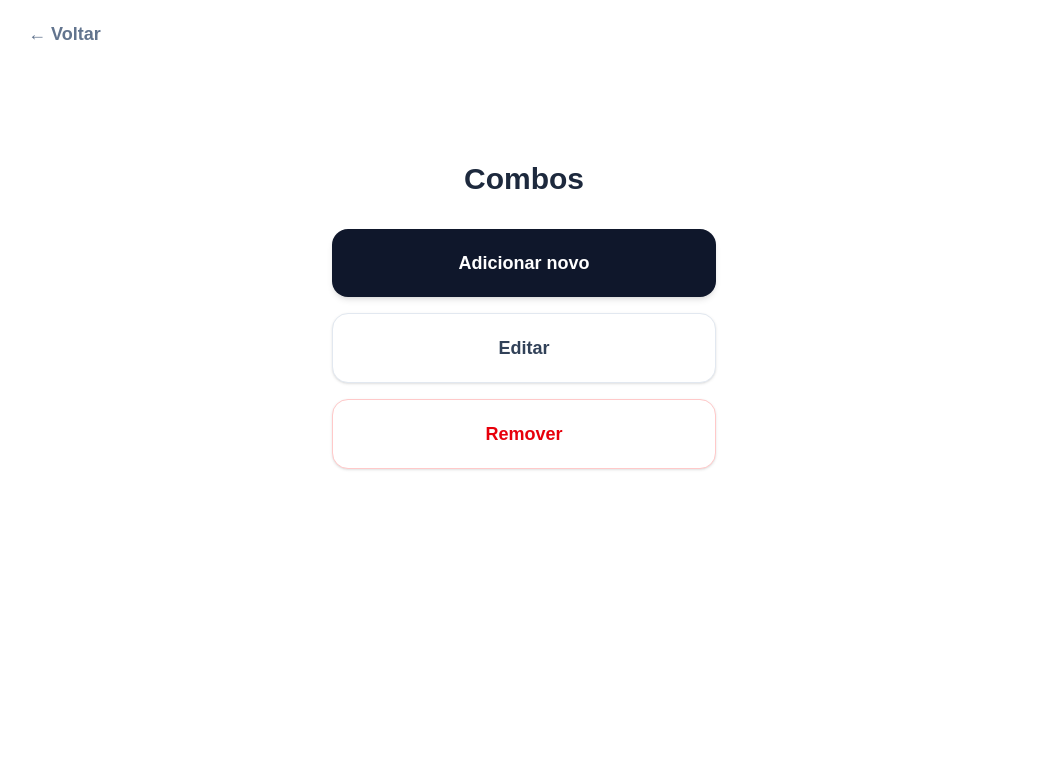
ComboHub › abre o ComboWizard de criação ao clicar em 'Adicionar novo'
This screenshot has width=1048, height=780.
Click the button "Adicionar novo": (524, 263) [332,229,716,297]
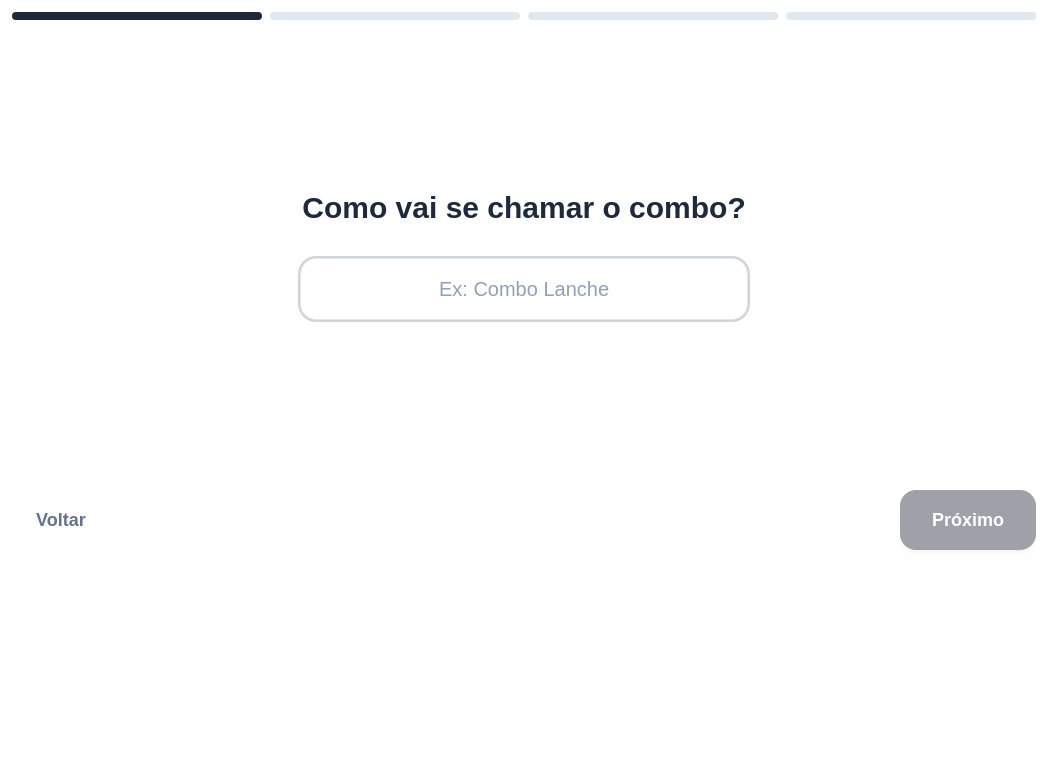
Now the heading "Como vai se chamar o combo?" is shown, box [302,190,746,226]
